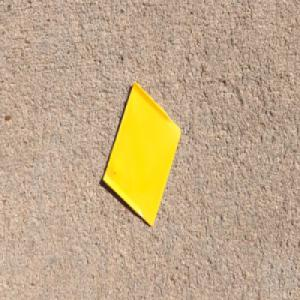PlasticPart: (101, 79, 181, 227)
